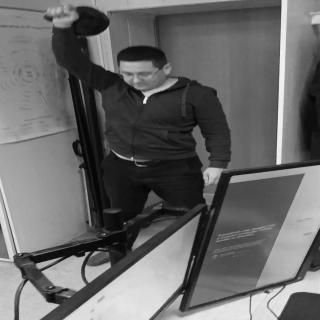kettlebell: (44, 6, 104, 36)
